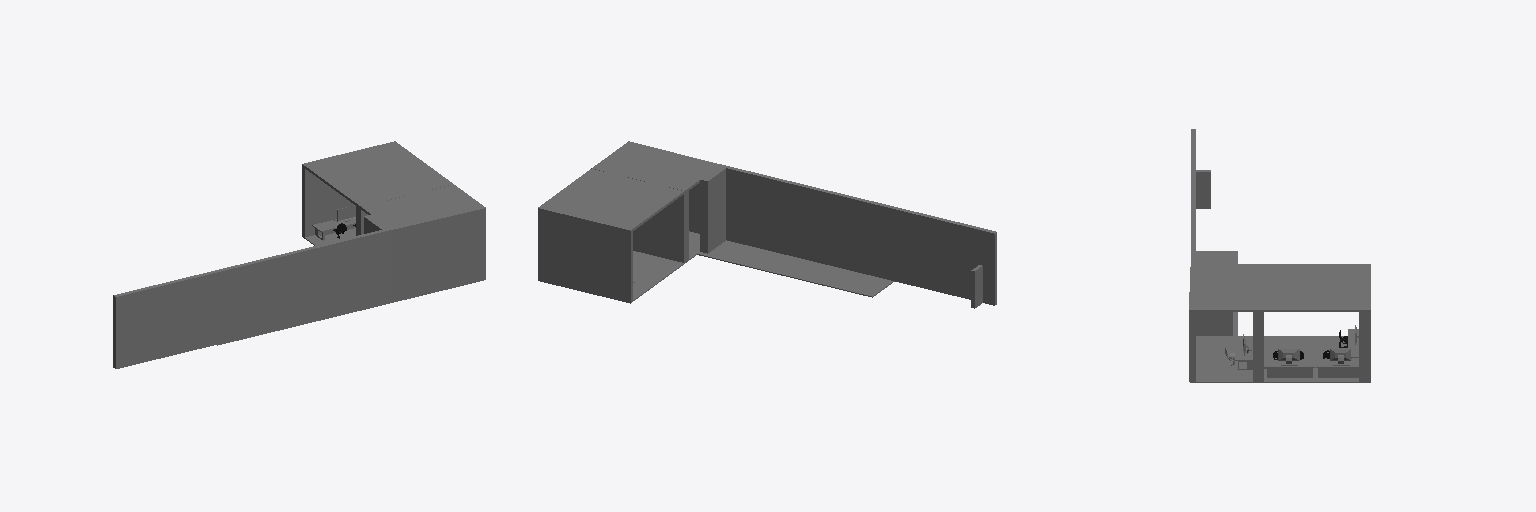
Rendered from Vrrooms.obj.
The picture shows the model from 3 angles: view 1: azimuth 30°, elevation 25°; view 2: azimuth 150°, elevation 25°; view 3: azimuth 270°, elevation 25°; orthographic projection.
Parts seen in each view (by area): view 1: polySurface1 pCube4; view 2: polySurface1 pCube4; view 3: polySurface1 pCube4, pCube24, pCube23.
Part boxes in pixels (x1,y1,x2,y2): polySurface1 pCube4: (113, 141, 485, 368); polySurface1 pCube4: (538, 141, 996, 308); polySurface1 pCube4: (1189, 129, 1370, 382); pCube24: (1264, 360, 1314, 377); pCube23: (1316, 359, 1358, 377).
Bounding box in the file's own units: 14.12 × 2.67 × 6.03.